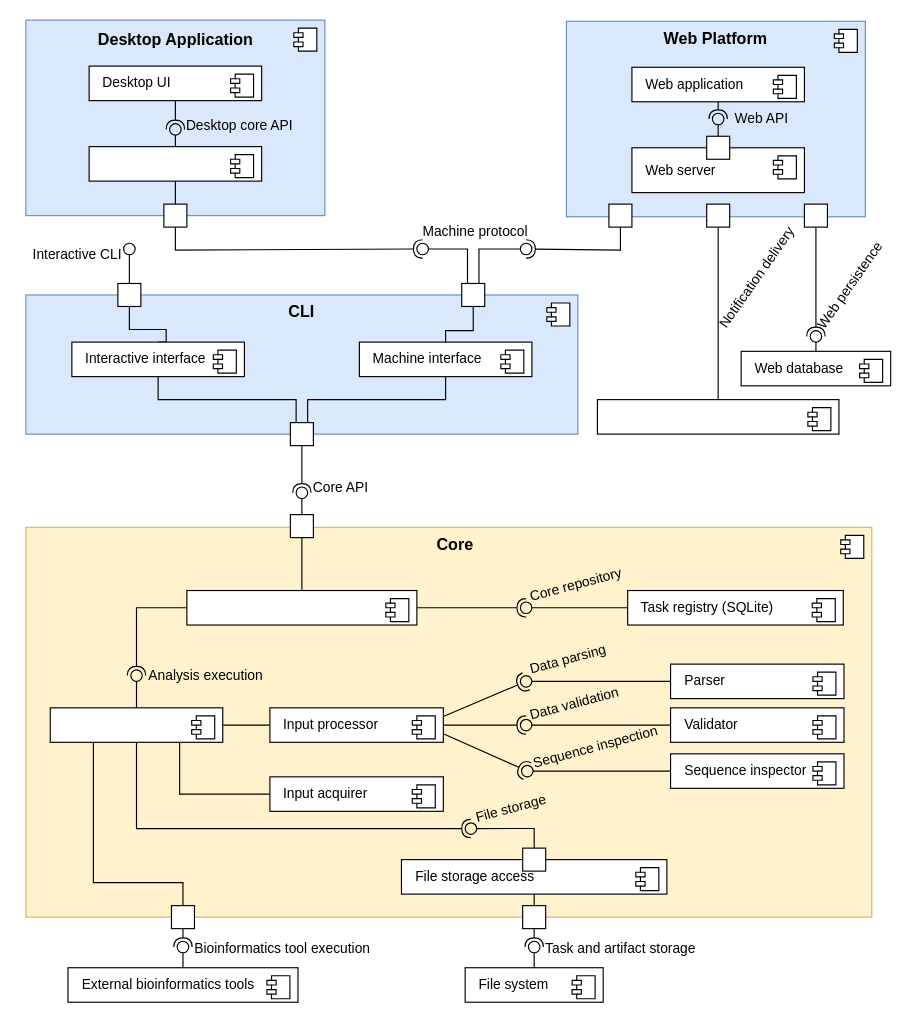
Some shapes in this 917 by 1022 pixel diagram are drawn without their labels. Here are the shapes that lost their labels. From the top down, the centre of each, then its label:
At (x=175, y=163): "Core adapter".
At (x=717, y=416): "External notification providers".
At (x=301, y=607): "Scheduler".
At (x=136, y=724): "Worker pool".
